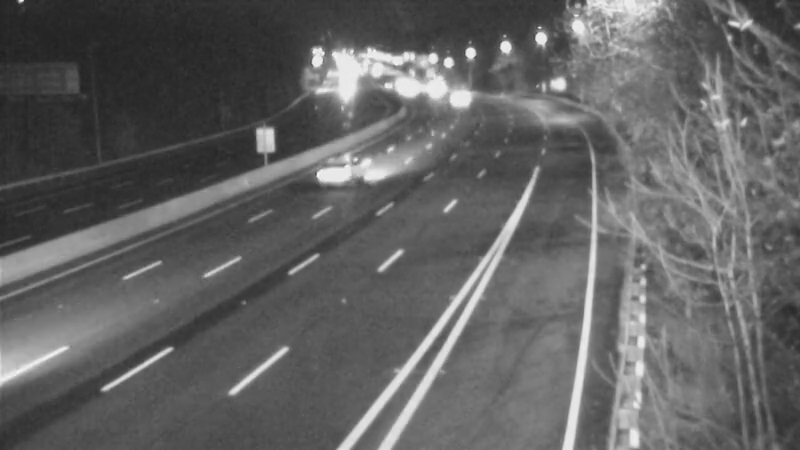vehicle: (300, 131, 380, 211), (406, 63, 456, 113), (437, 74, 487, 124)
